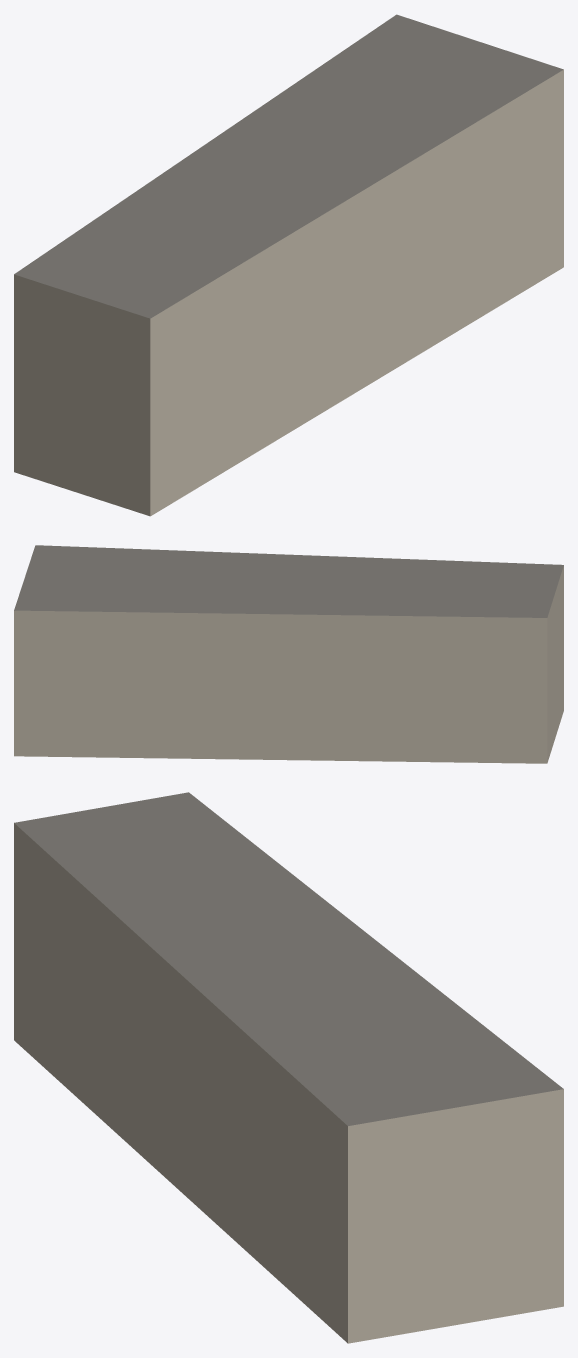
3 renders of one model, top to bottom at view 1: azimuth 30°, elevation 25°; view 2: azimuth 150°, elevation 25°; view 3: azimuth 270°, elevation 25°, orthographic. The views are drawn at different scales.
Parts seen in each view (by area): view 1: HP-w731233909; view 2: HP-w731233909; view 3: HP-w731233909.
Boxes of the visible parts, x1,y1,x2,y2 form: HP-w731233909: [14, 14, 563, 516]; HP-w731233909: [14, 545, 563, 763]; HP-w731233909: [14, 792, 563, 1343].
Size of the model in its own units: 59.27 by 18 by 41.26.
